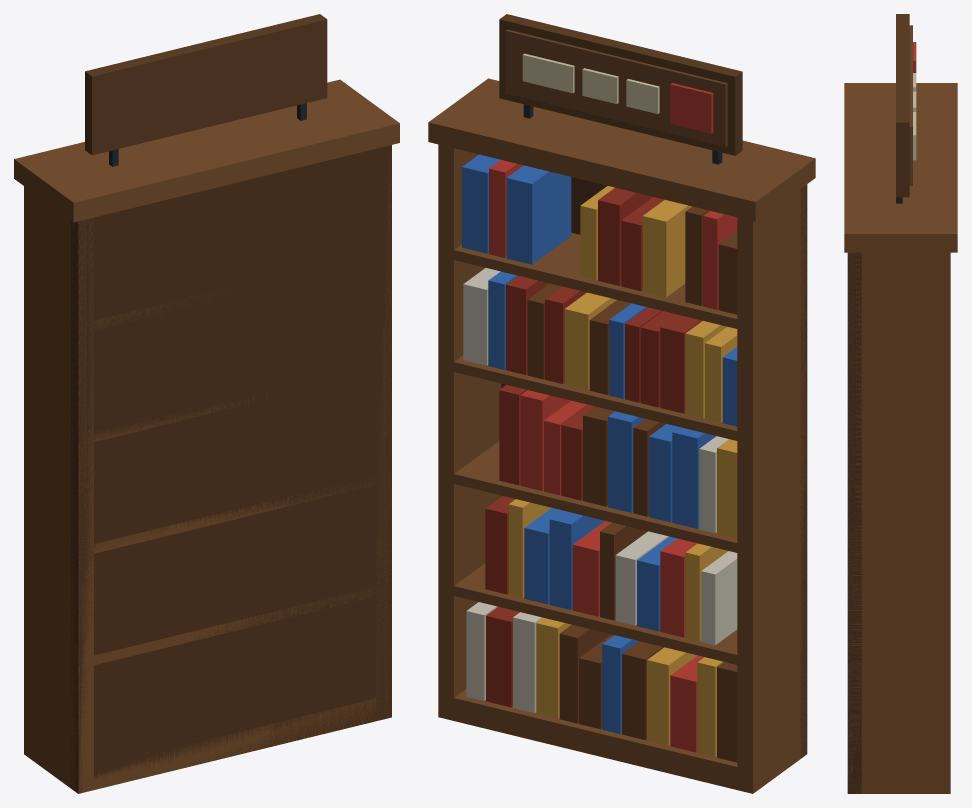
File: tv-shelf-tieng-viet.glb
3 views of the same model, side by side, from view 1: azimuth 30°, elevation 25°; view 2: azimuth 150°, elevation 25°; view 3: azimuth 270°, elevation 25° (orthographic). The views are drawn at different scales.
Visible parts, largest first — view 1: box-prop; view 2: box-prop; view 3: box-prop.
Part boxes in pixels (x1,y1,x2,y2): box-prop: [14, 14, 399, 793]; box-prop: [428, 14, 815, 793]; box-prop: [844, 14, 957, 793].
Size of the model in its own units: 2.08 by 4.2 by 0.66.
